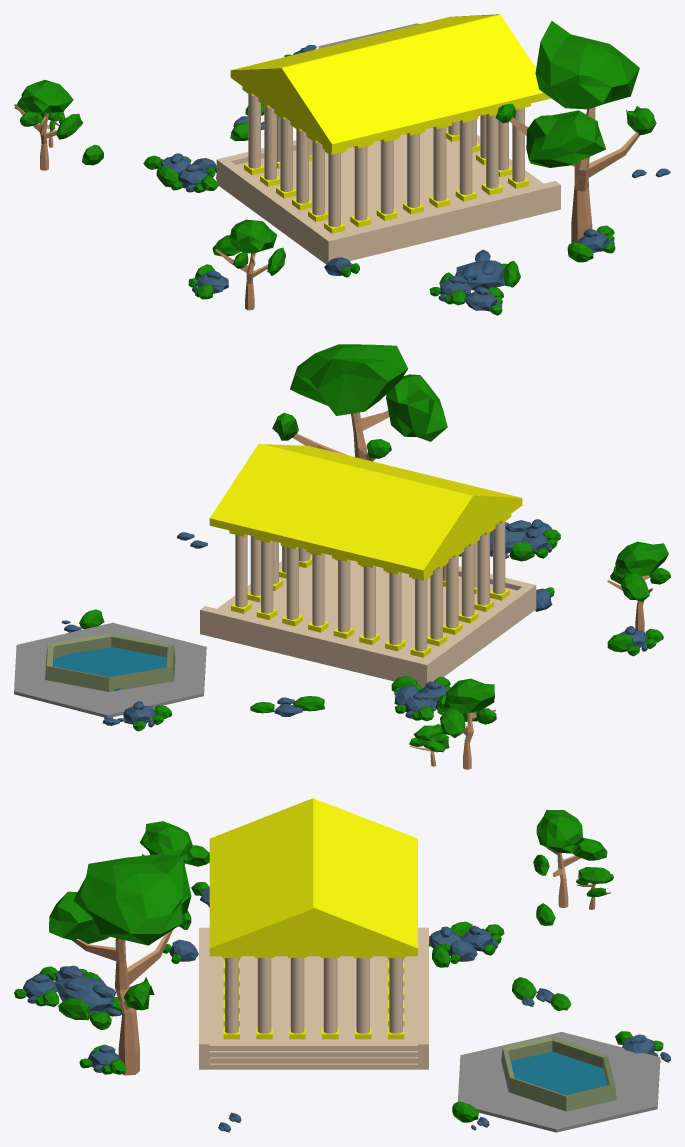
The model's file is Temple or.fbx.
The picture shows the model from 3 angles, top to bottom: view 1: azimuth 30°, elevation 25°; view 2: azimuth 150°, elevation 25°; view 3: azimuth 270°, elevation 25°; orthographic projection. The views are drawn at different scales.
Visible parts, largest first — view 1: Zylinder; view 2: Zylinder; view 3: Zylinder.
Boxes of the visible parts, x1,y1,x2,y2 form: Zylinder: (14, 14, 670, 315); Zylinder: (14, 344, 670, 769); Zylinder: (14, 798, 670, 1132).
Size of the model in its own units: 1267 by 513 by 1425.
